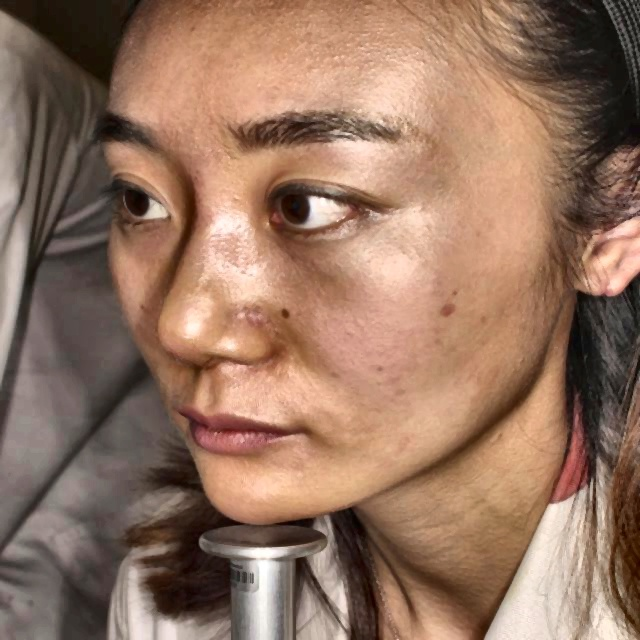comedone: (239, 306, 268, 328)
